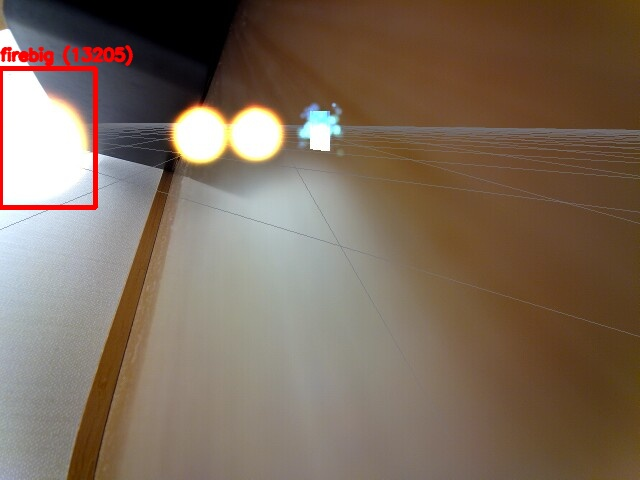firebig: (0, 68, 95, 207)
